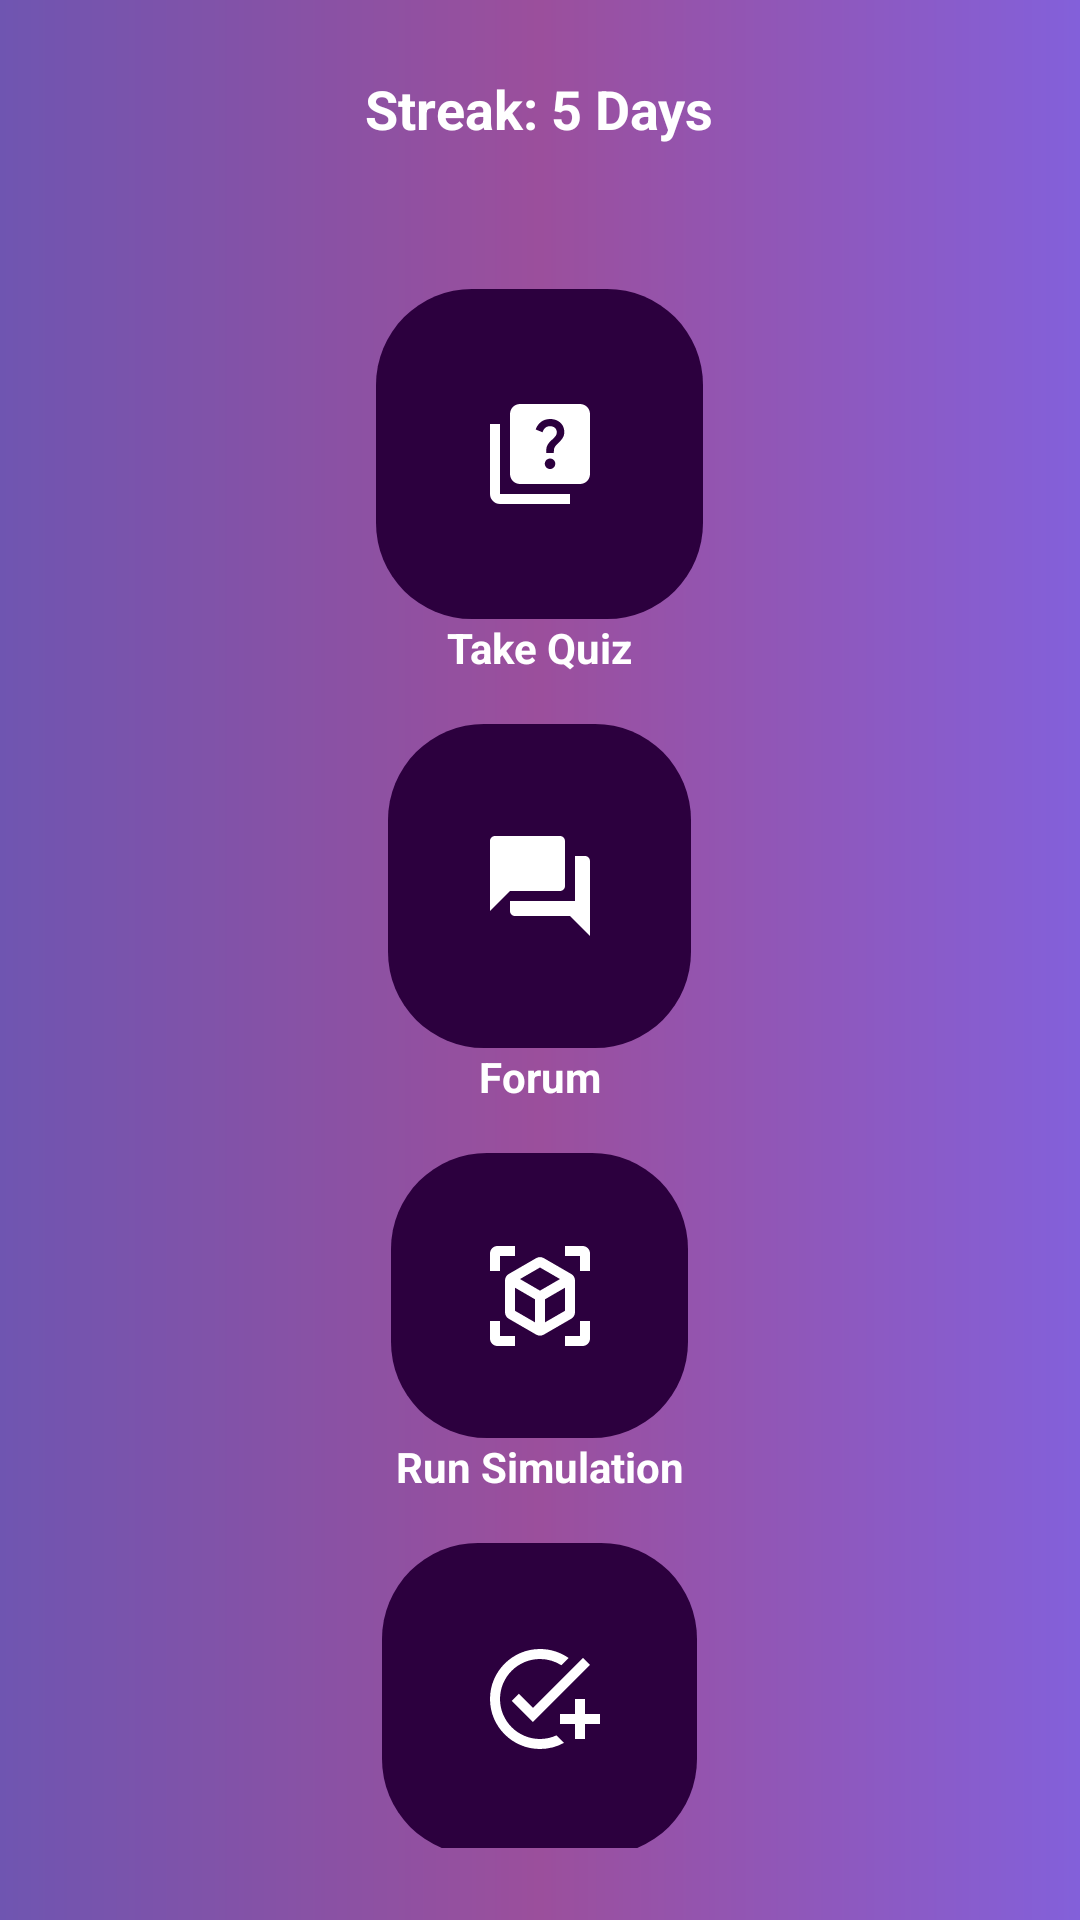

Icons on this 1080×1920 Android screen, each with the point to tap as point (x, y):
My Goals: point (539, 1695)
